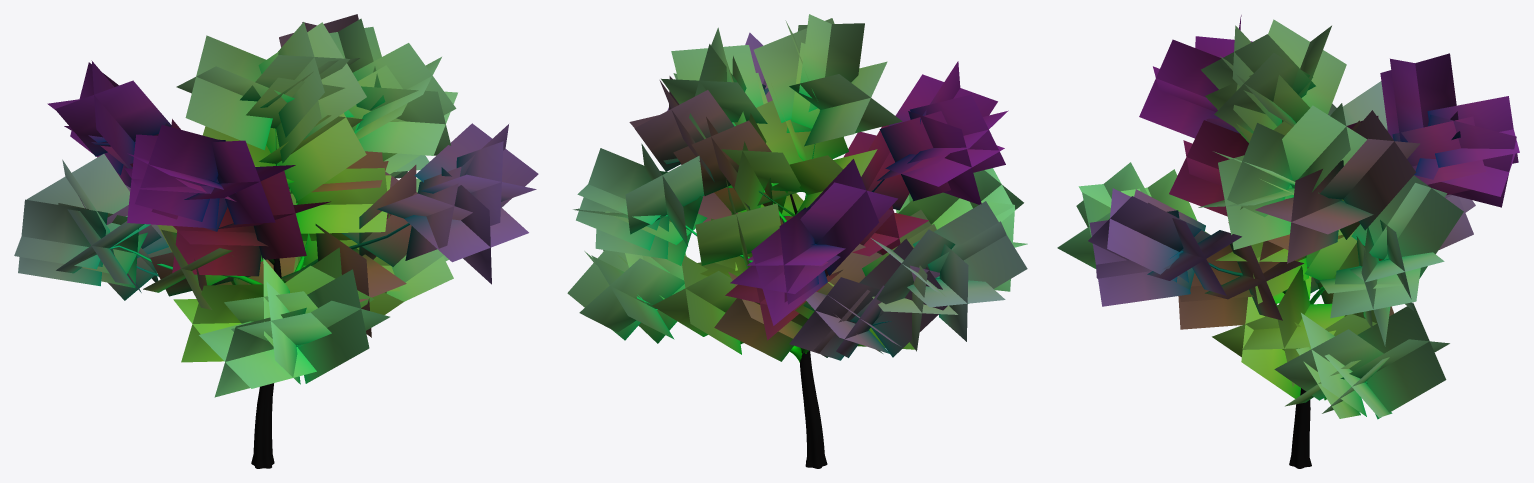
Rendered from URP_P3_Tree_1_LOD_0.fbx.
3 renders of one model, left to right at view 1: azimuth 30°, elevation 25°; view 2: azimuth 150°, elevation 25°; view 3: azimuth 270°, elevation 25°, orthographic. The views are drawn at different scales.
Visible parts, largest first — view 1: Tree_1_LOD_0; view 2: Tree_1_LOD_0; view 3: Tree_1_LOD_0.
Boxes of the visible parts, x1,y1,x2,y2 form: Tree_1_LOD_0: (14, 14, 538, 468); Tree_1_LOD_0: (567, 14, 1027, 468); Tree_1_LOD_0: (1057, 15, 1519, 468).
Bounding box in the file's own units: 629 × 612 × 582.
